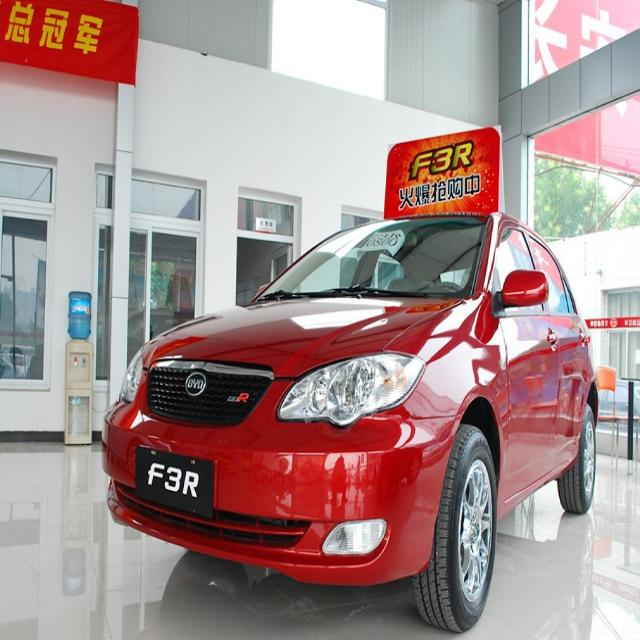front_bumper: (101, 395, 462, 590)
front_glass: (253, 212, 488, 302)
front_left_side_door: (487, 214, 557, 506)
front_left_side_light: (272, 346, 426, 434)
front_left_side_mirror: (496, 266, 549, 310)
front_right_side_light: (115, 347, 152, 411)
wheel: (422, 430, 498, 620), (556, 406, 595, 510)
